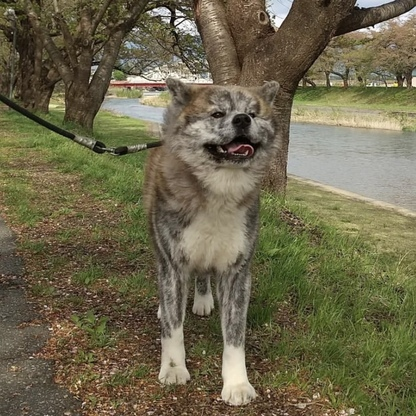akita: (135, 73, 287, 411)
